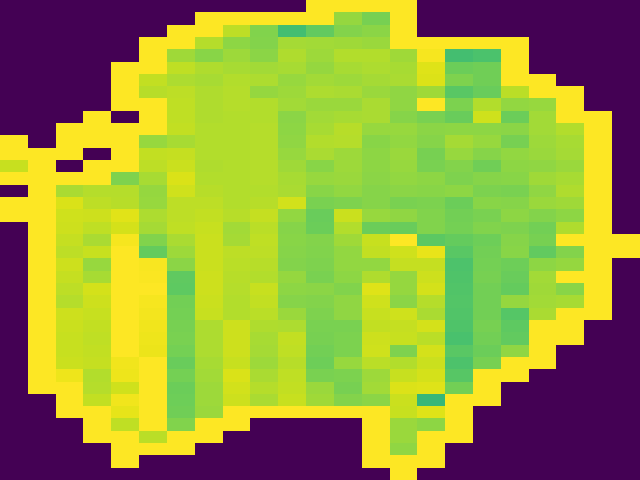car_0027: (3, 1, 640, 480)
